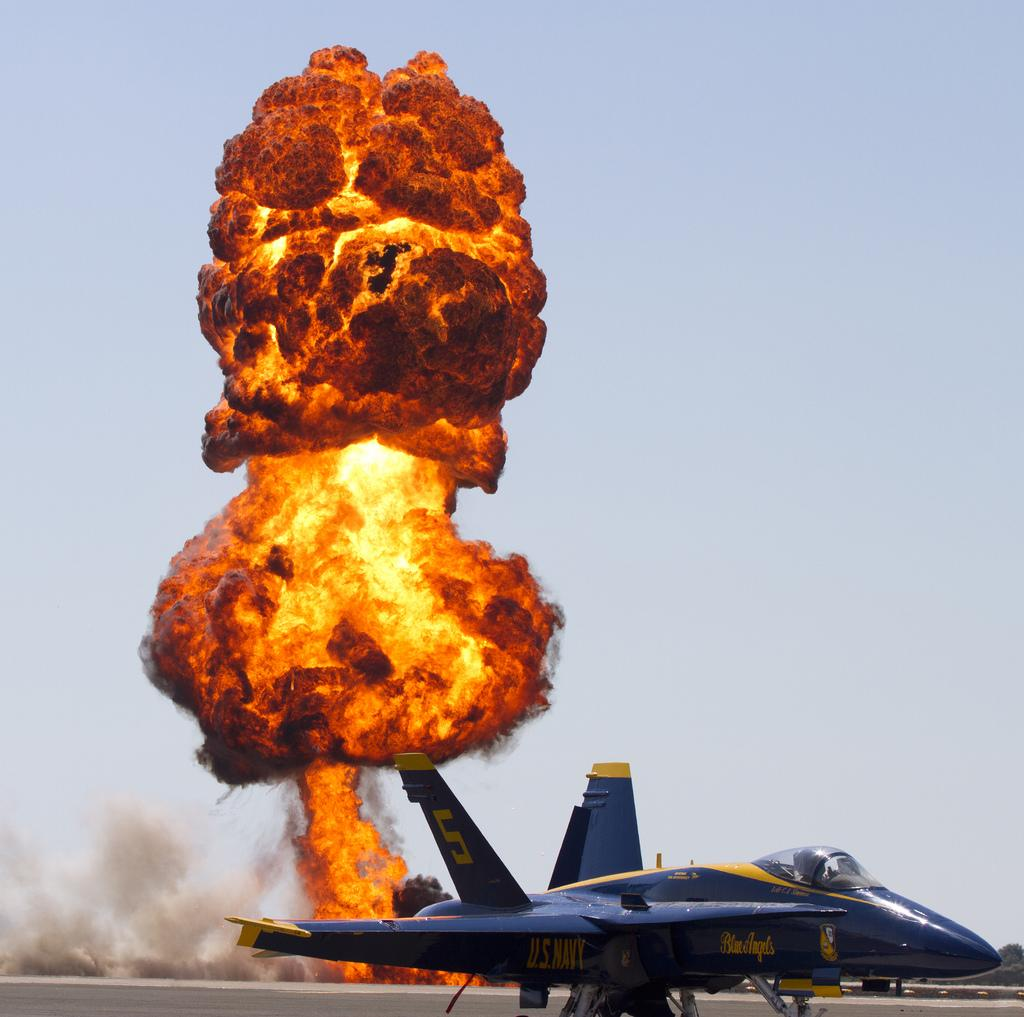fire: (245, 117, 490, 412), (195, 497, 482, 735), (298, 758, 382, 915)
